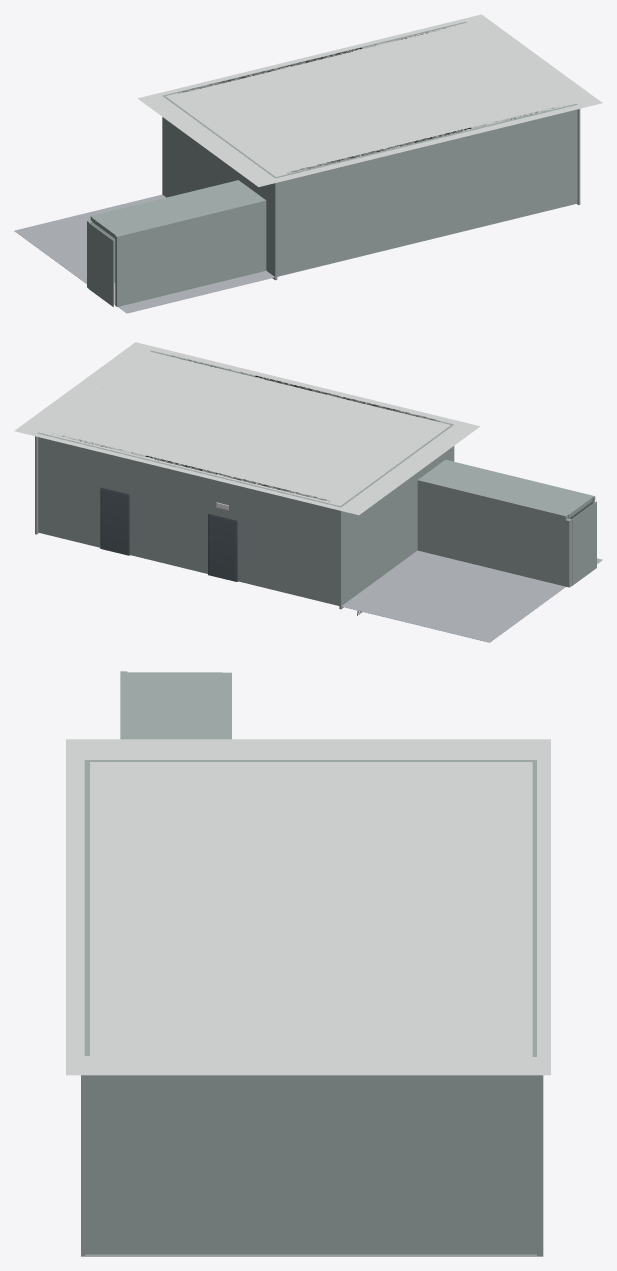
Rendered from NIVEL 2.glb.
3 views of the same model, one above another, from view 1: azimuth 30°, elevation 25°; view 2: azimuth 150°, elevation 25°; view 3: azimuth 270°, elevation 25° (orthographic). The views are drawn at different scales.
Parts seen in each view (by area): view 1: PARED, techo, Cube, metal-texture-with-dust-scratches-cracks-textured-background (×2); view 2: PARED, techo, Cube, Puerta.002, Puerta.003, metal-texture-with-dust-scratches-cracks-textured-background (×2); view 3: techo, PARED, Cube.
Boxes of the visible parts, <box> form: PARED: <box>87,21,580,306</box>; techo: <box>137,14,602,186</box>; Cube: <box>14,194,576,313</box>; metal-texture-with-dust-scratches-cracks-textured-background (×2): <box>178,28,553,173</box>; PARED: <box>35,350,596,609</box>; techo: <box>14,342,479,515</box>; Cube: <box>47,534,602,642</box>; Puerta.002: <box>100,487,129,555</box>; Puerta.003: <box>208,514,237,581</box>; metal-texture-with-dust-scratches-cracks-textured-background (×2): <box>63,356,438,501</box>; techo: <box>66,739,550,1075</box>; PARED: <box>81,671,543,1256</box>; Cube: <box>85,1254,536,1255</box>.
Size of the model in its own units: 693 by 172 by 307.
Materials: 30 (10 with a texture image).
